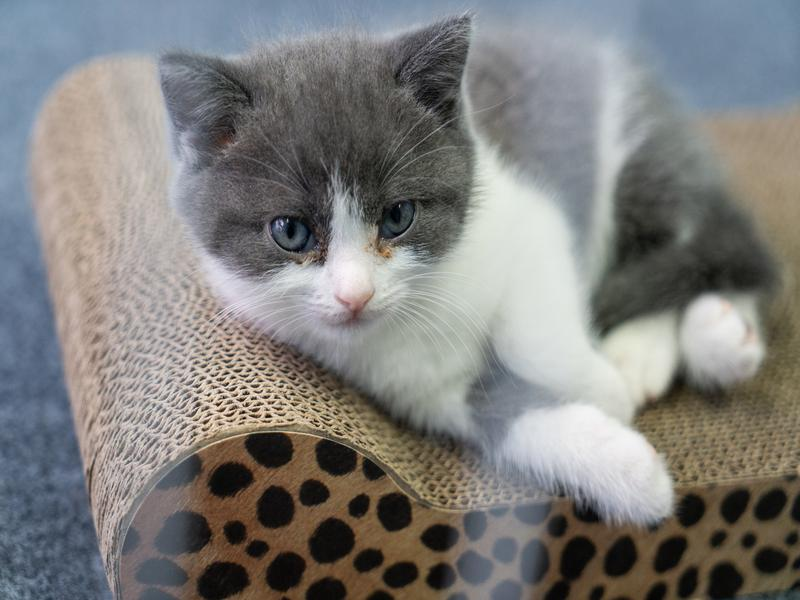cat: (155, 13, 779, 529)
